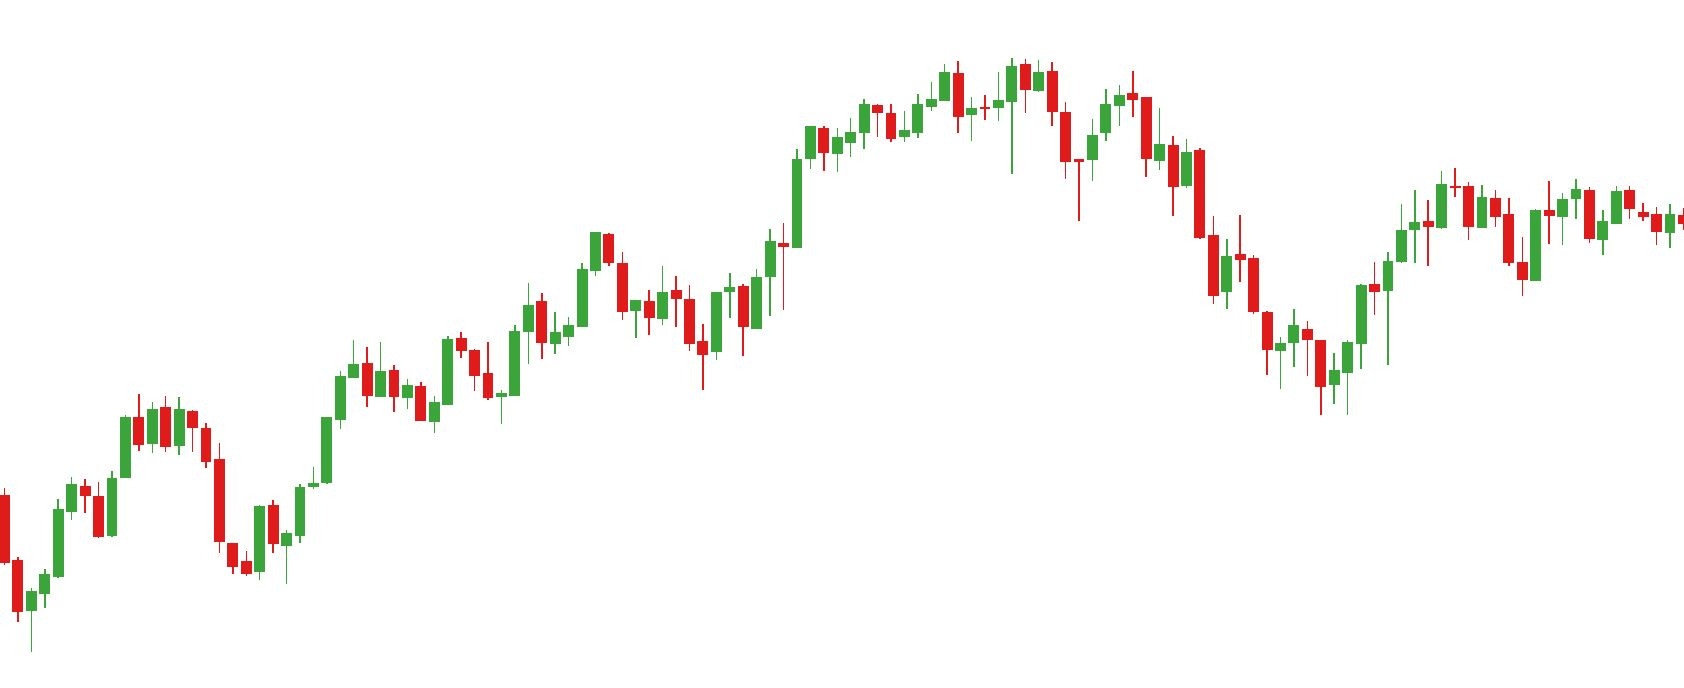buy: (534, 254, 725, 401), (93, 450, 268, 589)
